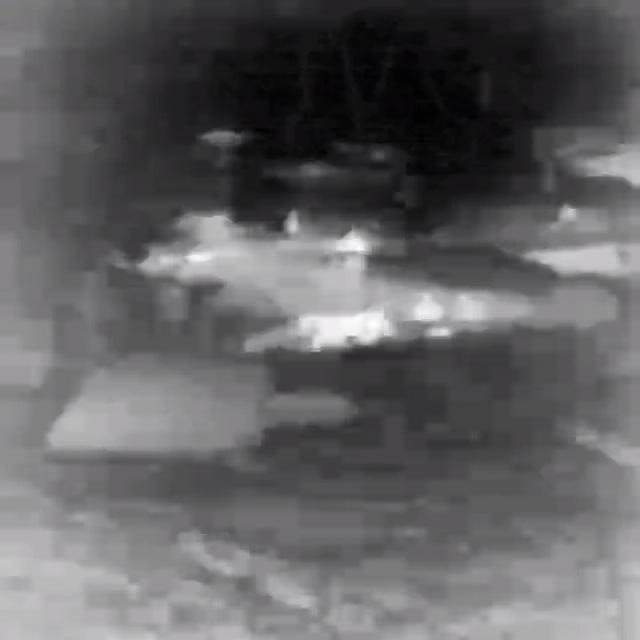cheetah: (300, 312, 389, 350)
human: (417, 294, 447, 335), (338, 231, 366, 270), (460, 294, 481, 326), (283, 209, 301, 235)
